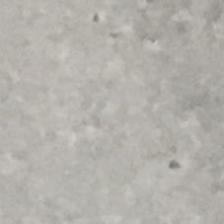Non_Crack: (14, 24, 209, 196)
